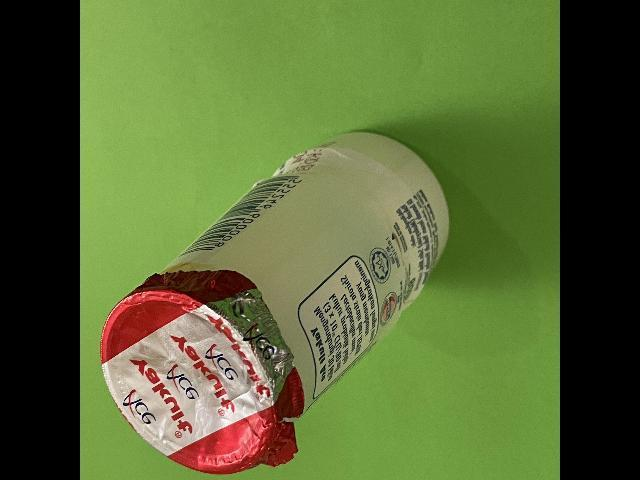plasticbottle: (98, 124, 454, 478)
